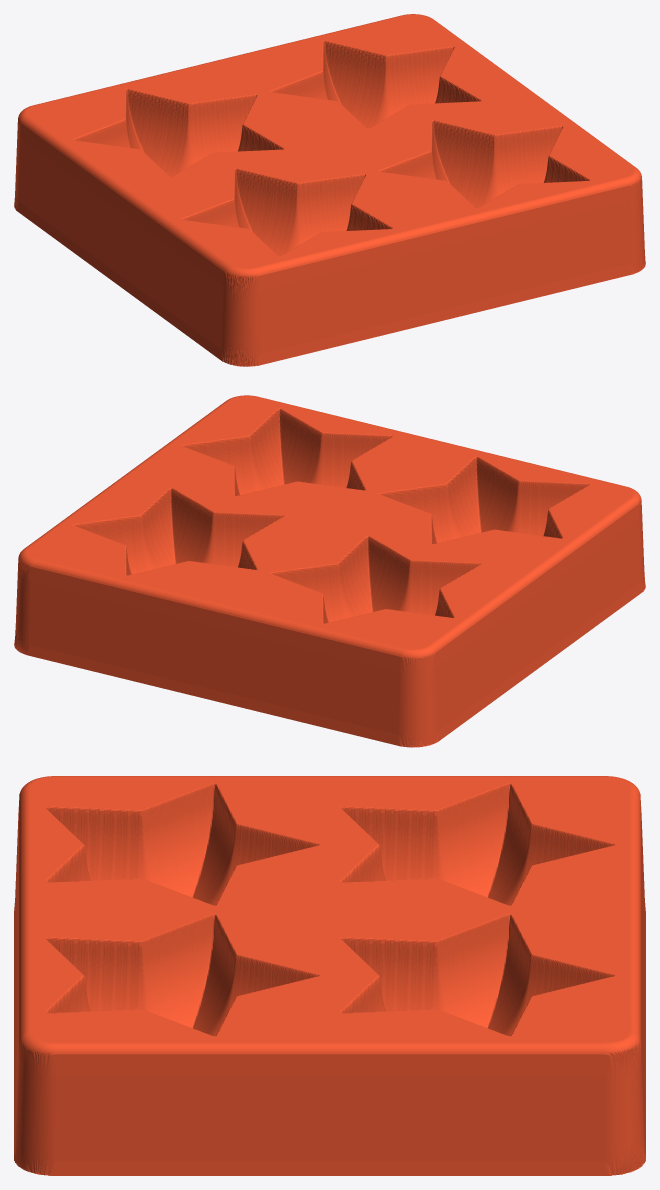
Rendered from mold.glb.
The picture shows the model from 3 angles, top to bottom: view 1: azimuth 30°, elevation 25°; view 2: azimuth 150°, elevation 25°; view 3: azimuth 270°, elevation 25°; orthographic projection. The views are drawn at different scales.
Visible parts, largest first — view 1: geometry_0; view 2: geometry_0; view 3: geometry_0.
Boxes of the visible parts, x1=… form: geometry_0: x1=14, y1=14, x2=645, y2=366; geometry_0: x1=14, y1=395, x2=645, y2=747; geometry_0: x1=14, y1=776, x2=645, y2=1175.
Bounding box in the file's own units: 0.1466 × 0.031 × 0.1403.
